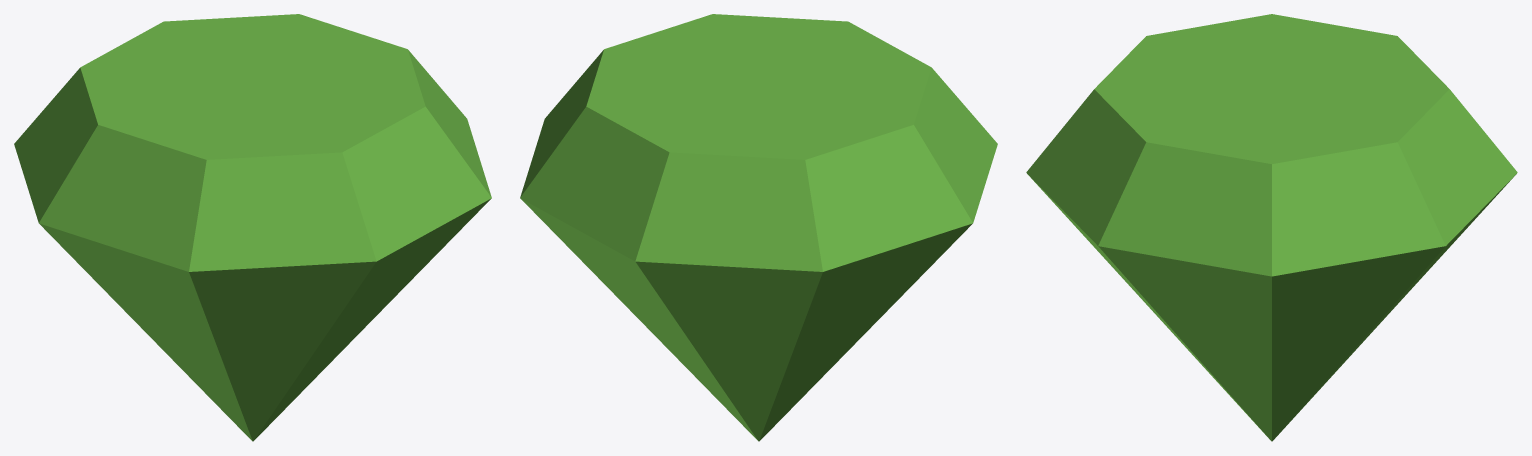
The model's file is Diamond_Green.fbx.
The picture shows the model from 3 angles, left to right: view 1: azimuth 30°, elevation 25°; view 2: azimuth 150°, elevation 25°; view 3: azimuth 270°, elevation 25°; orthographic projection.
Visible parts, largest first — view 1: Diamond Green; view 2: Diamond Green; view 3: Diamond Green.
Part boxes in pixels (x1,y1,x2,y2): Diamond Green: (14,14,491,441); Diamond Green: (520,14,997,441); Diamond Green: (1026,14,1517,441).
Bounding box in the file's own units: 59.1 × 46.79 × 59.1.
Materials: 1 (1 with a texture image).
